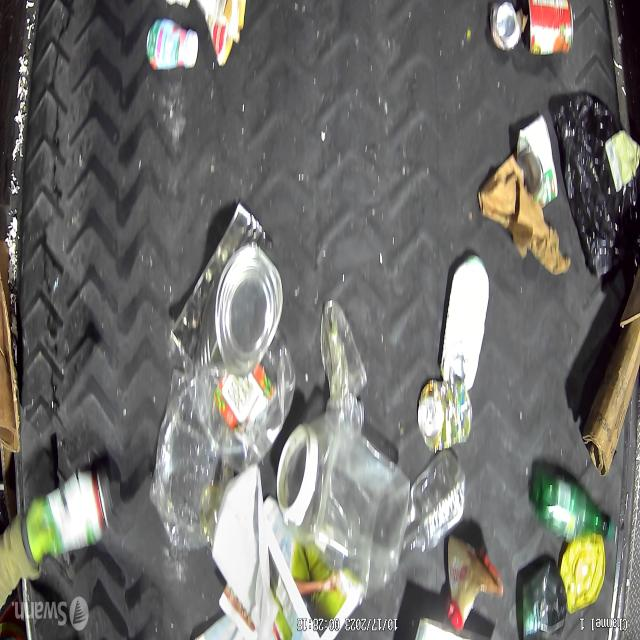can: (170, 201, 282, 378), (416, 377, 474, 452), (516, 112, 559, 208), (528, 0, 576, 58), (489, 0, 524, 53)
